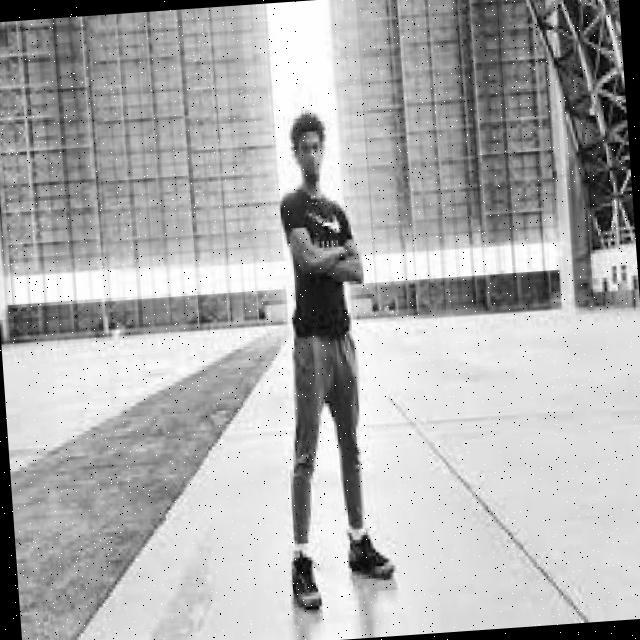Nike: (307, 199, 348, 235)
